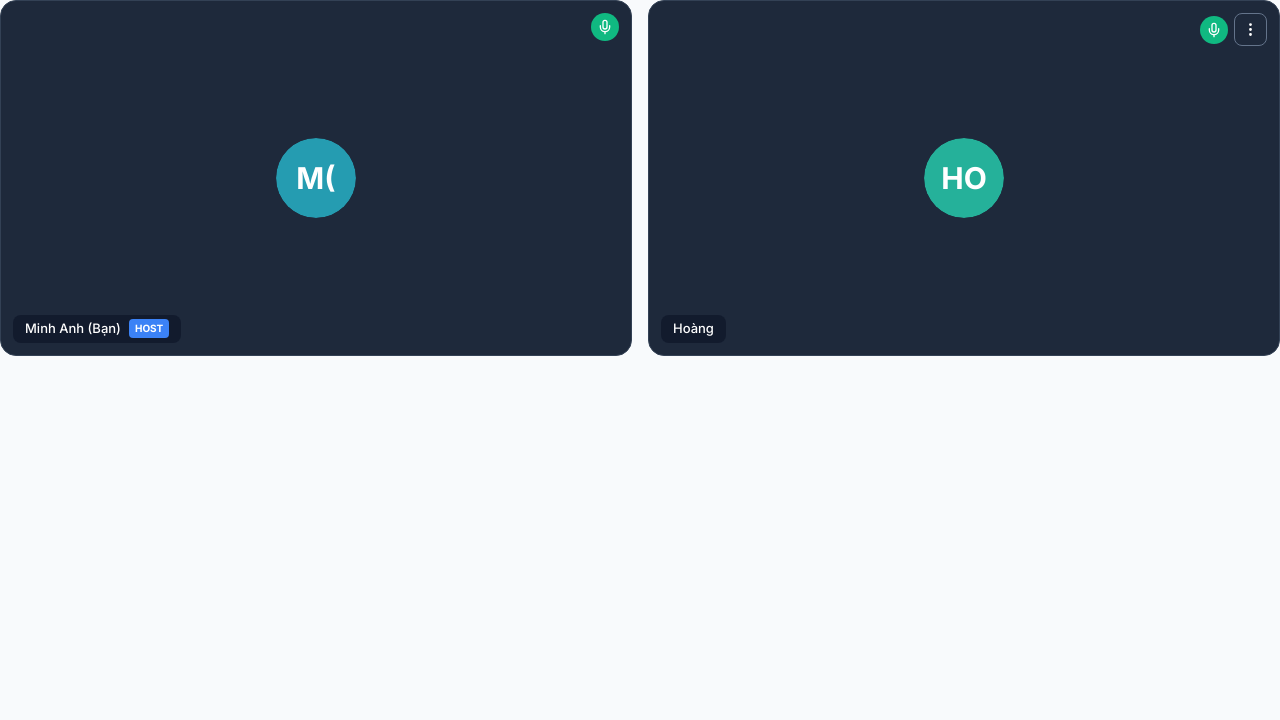
Test case: in-call moderation controls › offers mute, not remote unmute; shows an error when media enforcement fails
Click the button named "Điều hành Hoàng".
click(1250, 30)  # box [1234,13,1267,46]
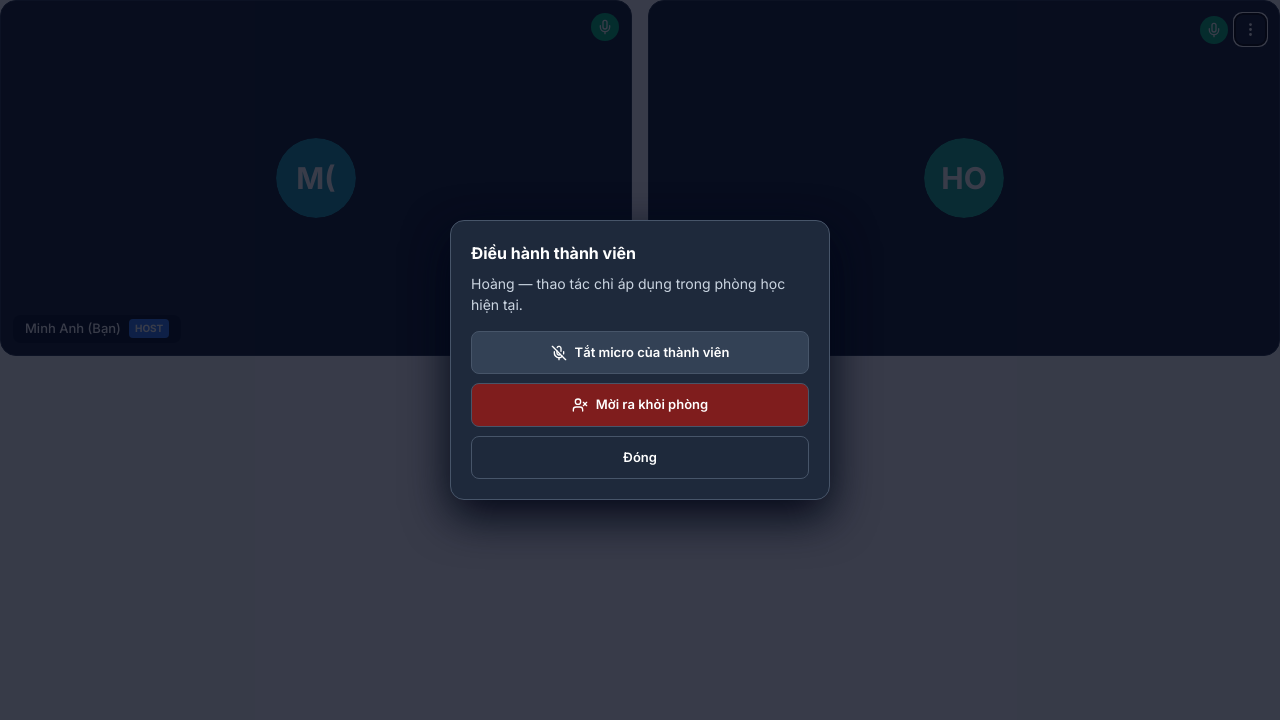
Click the button "Tắt micro của thành viên".
click(640, 353)  # box [471,331,809,374]
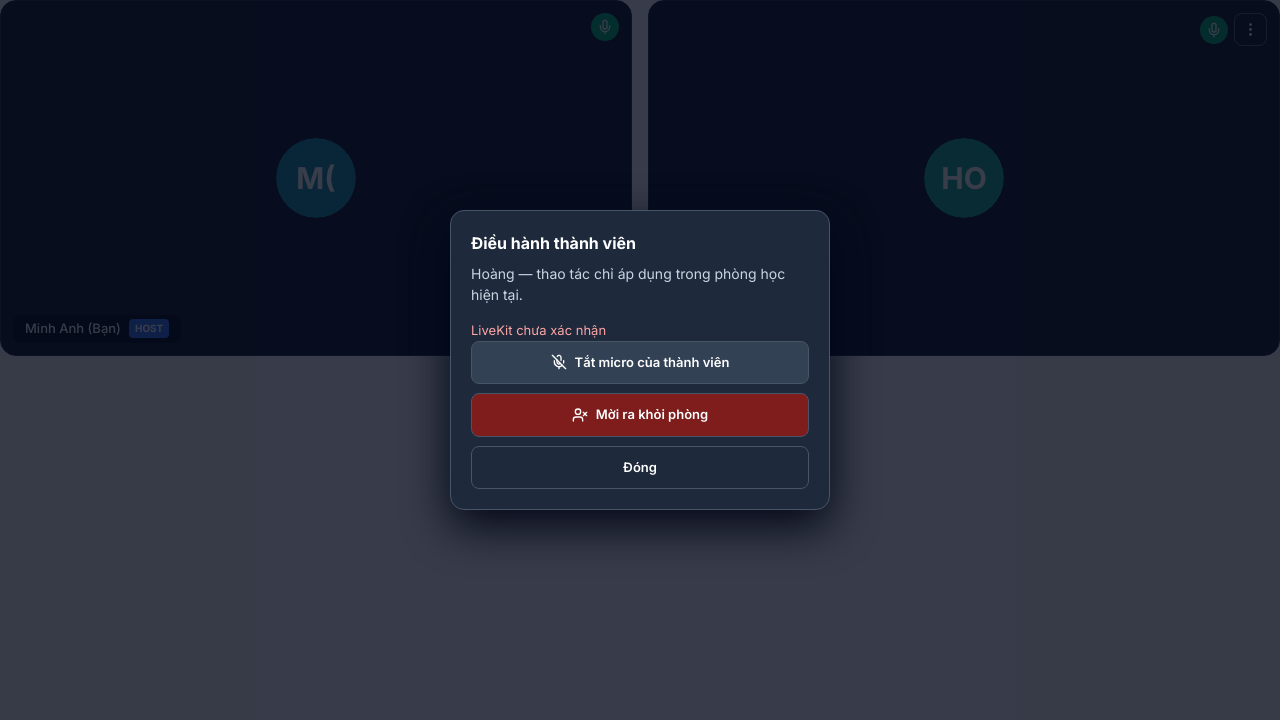
Expected: the message reads "LiveKit chưa xác nhận", [471,322,606,338]
